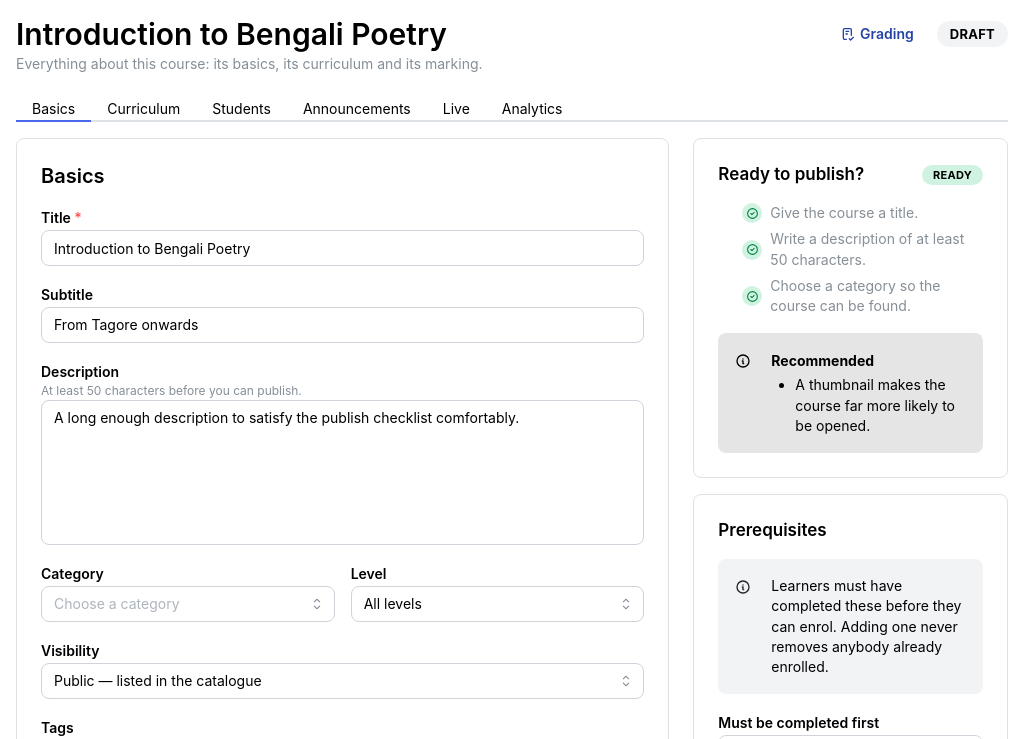
CourseEditorRoute › surfaces a save failure on the field it belongs to
Step 1. Replace the text in the field labelled "Title *" with "A new title" → coordinates (343, 248), box top-left (41, 230), bottom-right (644, 266)
(page scrolled)
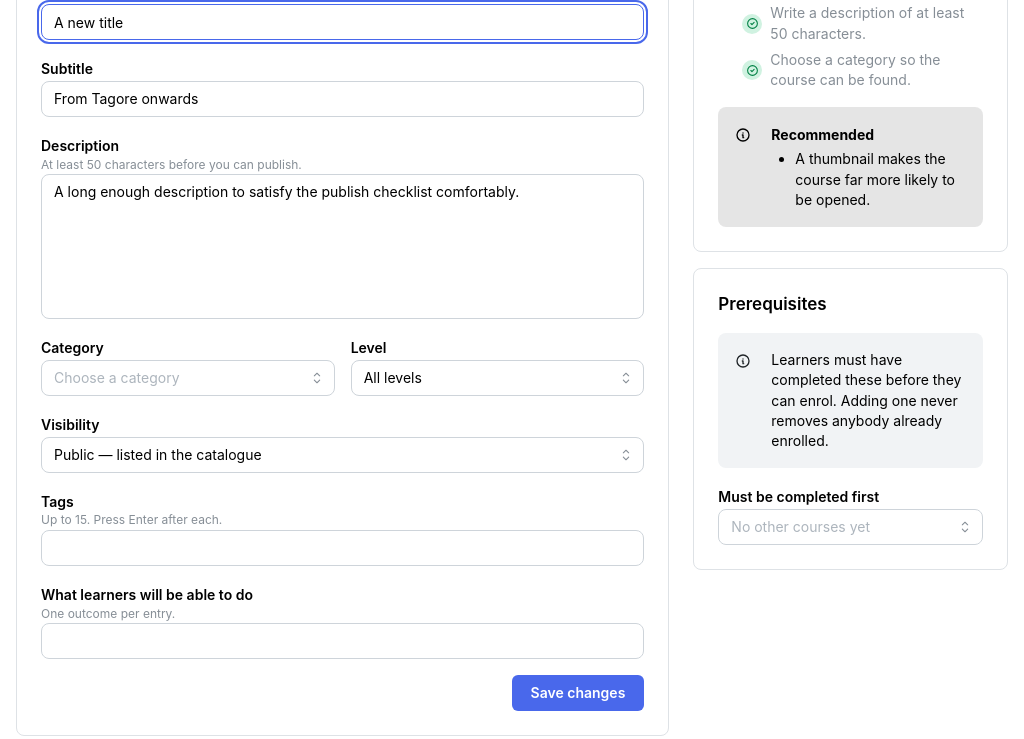
Step 2. Click the button "Save changes" → coordinates (578, 693), box top-left (512, 675), bottom-right (644, 711)
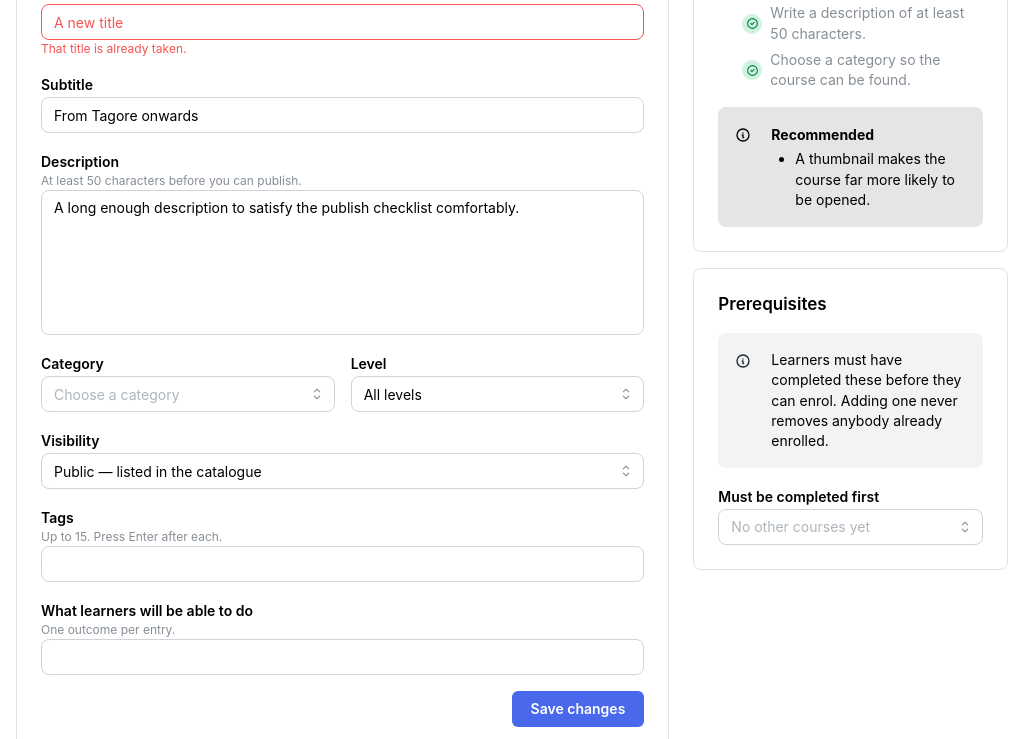
expect the text "That title is already taken." is shown: met, box top-left (41, 41), bottom-right (186, 56)
